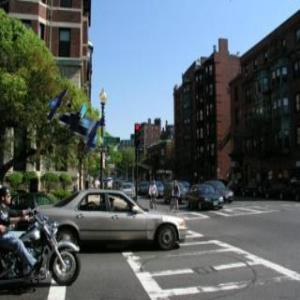drone: (9, 77, 132, 200)
